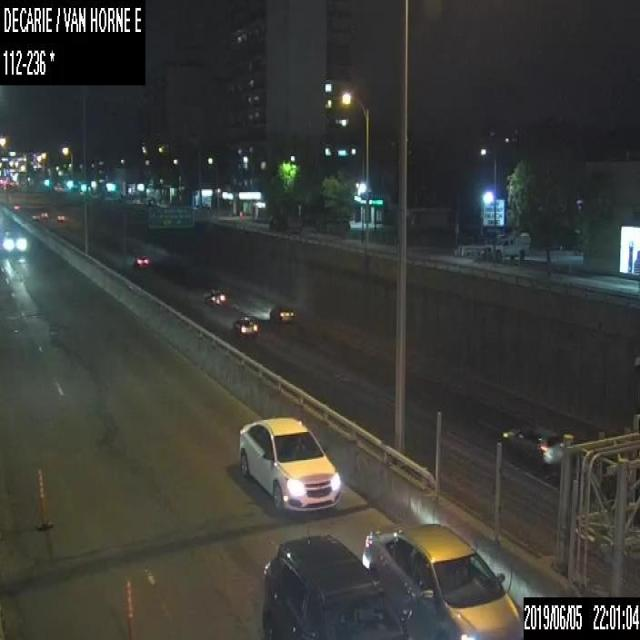construction: (34, 468, 51, 532), (122, 577, 133, 639)
vehicle: (362, 522, 524, 639), (259, 534, 404, 638), (237, 414, 339, 514), (500, 423, 562, 465), (482, 232, 530, 260), (2, 228, 29, 253), (230, 316, 258, 337), (266, 302, 294, 322), (203, 285, 225, 307), (131, 253, 149, 268), (56, 212, 65, 223), (39, 211, 48, 222), (30, 211, 39, 221), (13, 203, 20, 211)
